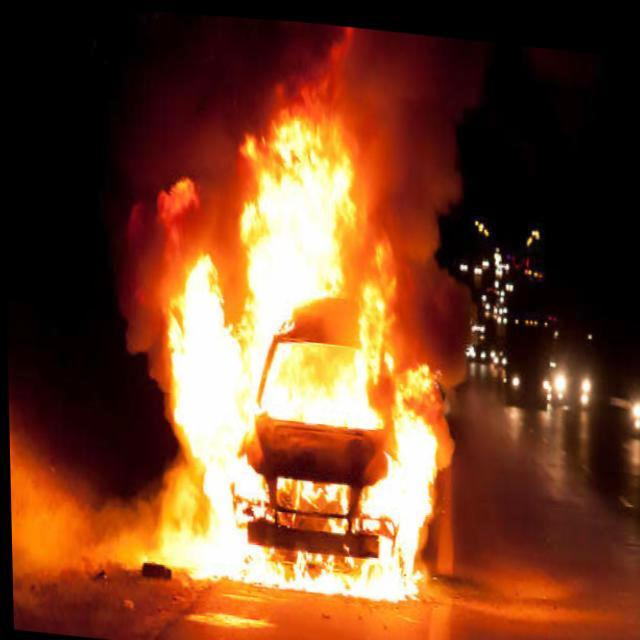fire: (107, 130, 461, 612)
